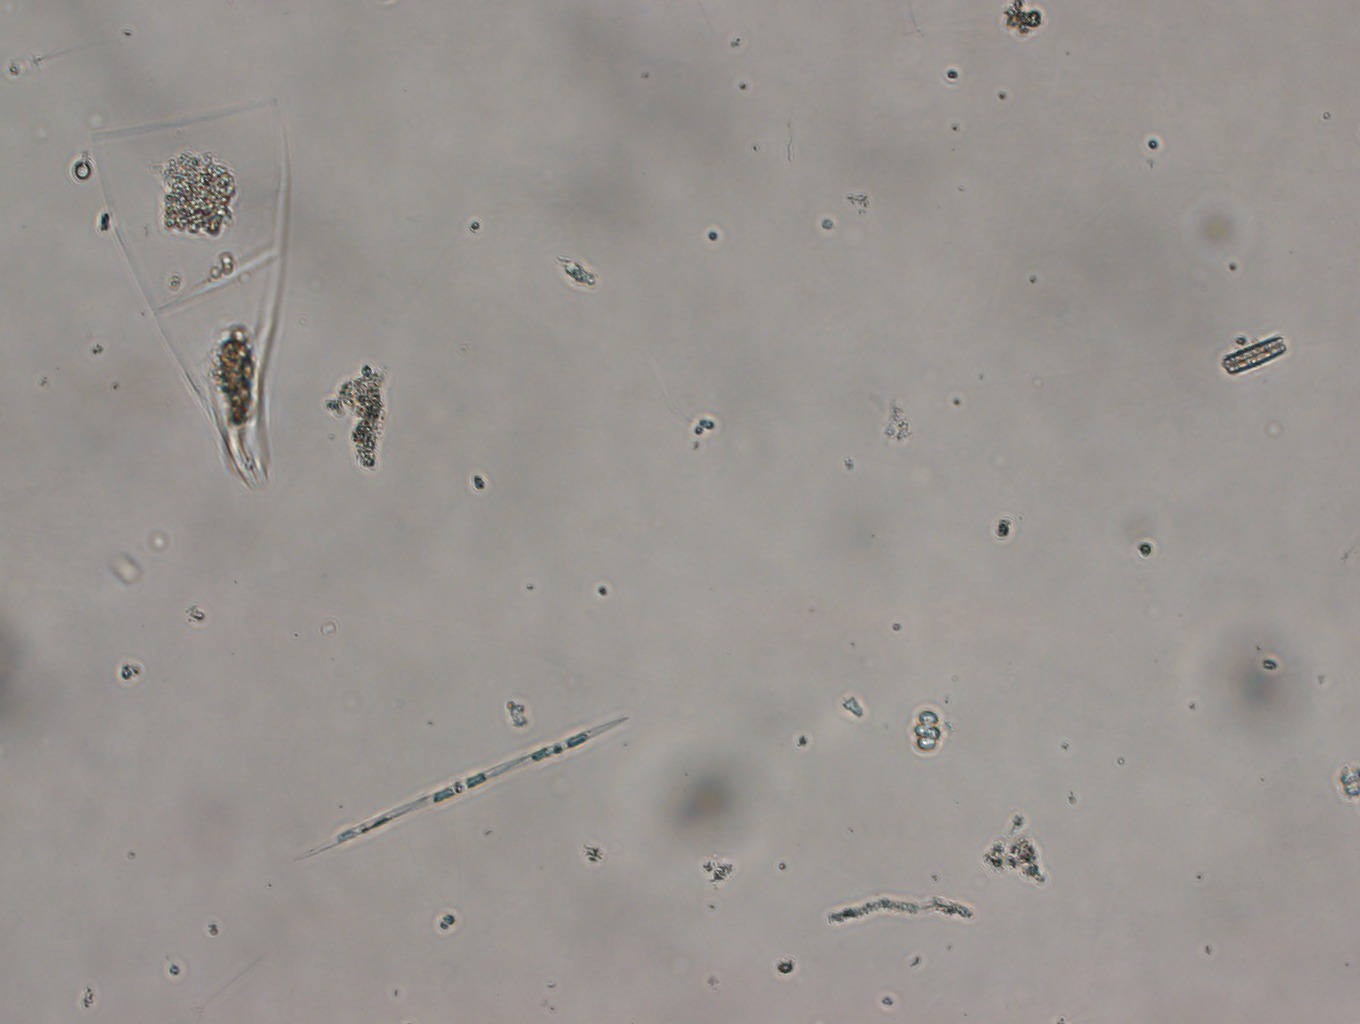helicotheca: (90, 89, 291, 487)
